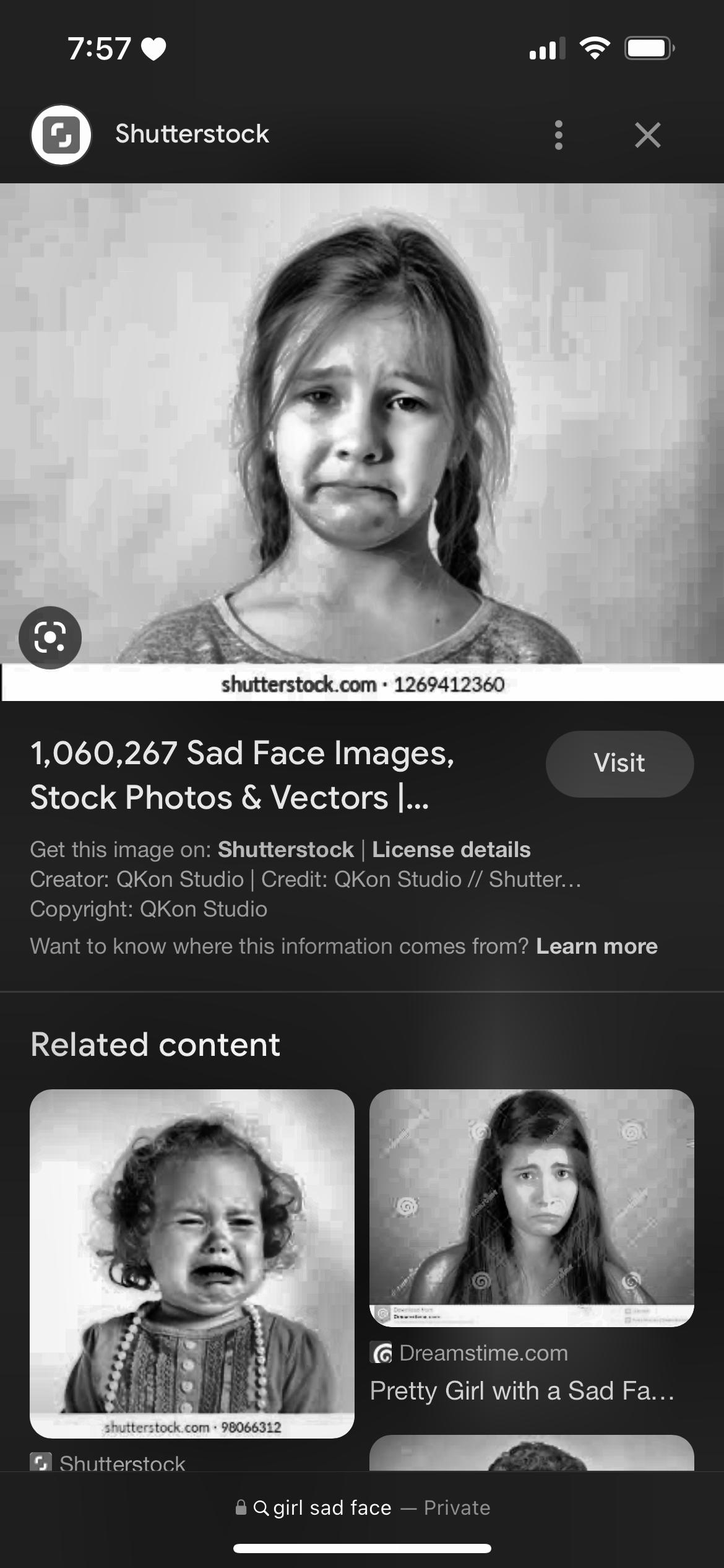sad: (271, 285, 475, 547)
